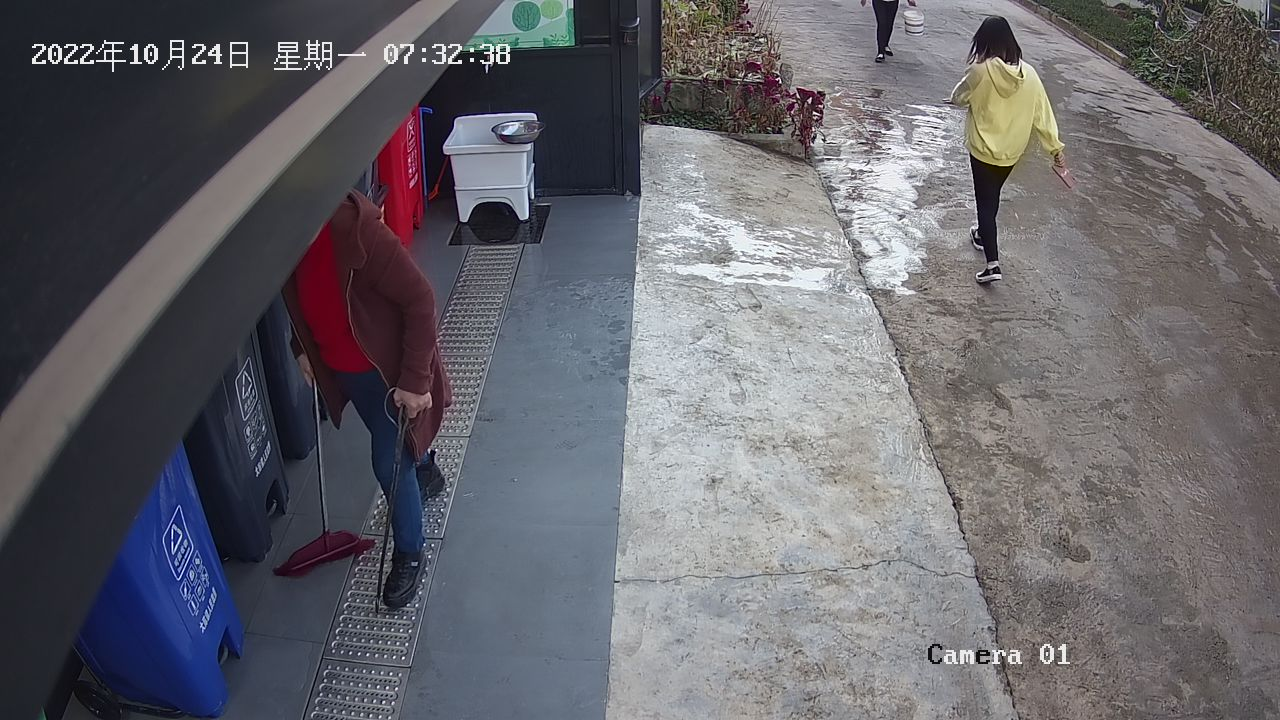person: (269, 180, 463, 615), (947, 12, 1075, 289)
youtong: (899, 7, 930, 40)
